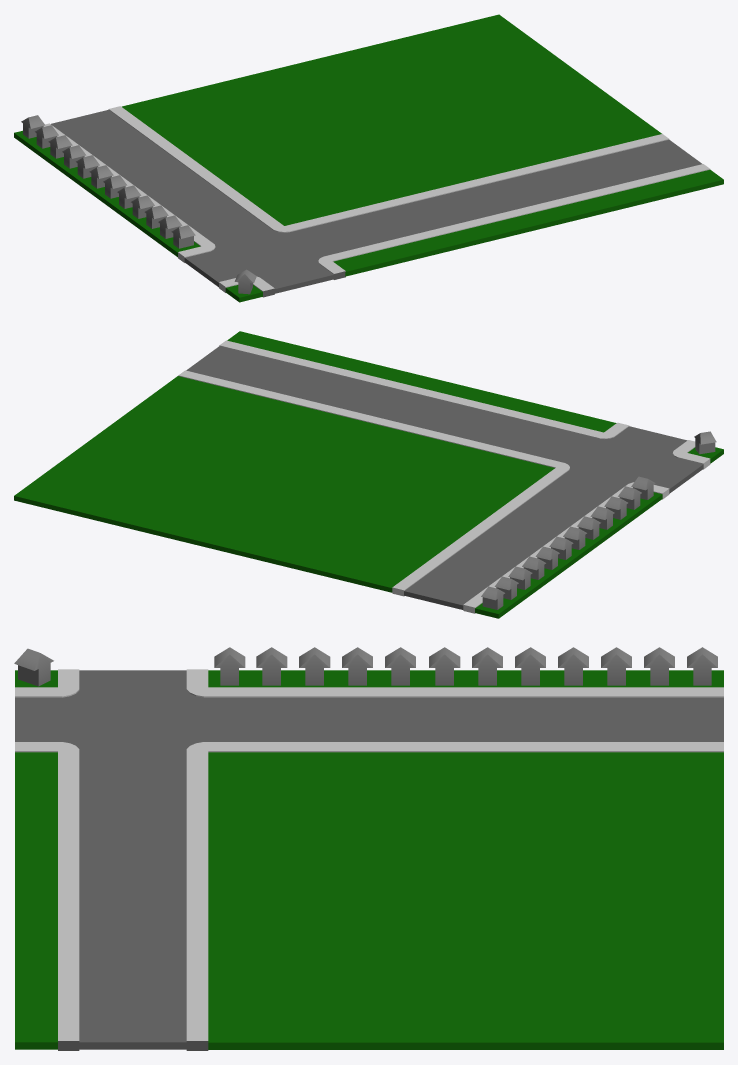
The model's file is map.fbx.
3 views of the same model, one above another, from view 1: azimuth 30°, elevation 25°; view 2: azimuth 150°, elevation 25°; view 3: azimuth 270°, elevation 25° (orthographic). The views are drawn at different scales.
Visible parts, largest first — view 1: LevelMesh; view 2: LevelMesh; view 3: LevelMesh, house_13, house_2, house_4, house_3, house_6, house_9, house_10, house_16, house_12, house_7, house_5 (+2 smaller).
Part boxes in pixels (x1,y1,x2,y2): LevelMesh: (14,14,723,302); LevelMesh: (14,331,723,618); LevelMesh: (15,669,723,1050); house_13: (14,648,53,686); house_2: (214,647,245,685); house_4: (256,647,287,685); house_3: (299,647,330,685); house_6: (429,647,460,685); house_9: (558,647,588,685); house_10: (601,647,631,685); house_16: (644,647,674,685); house_12: (687,647,717,685); house_7: (342,647,372,685); house_5: (385,647,415,685).
Size of what is drawn, in the model's own units: 8200 by 6608 by 388.
